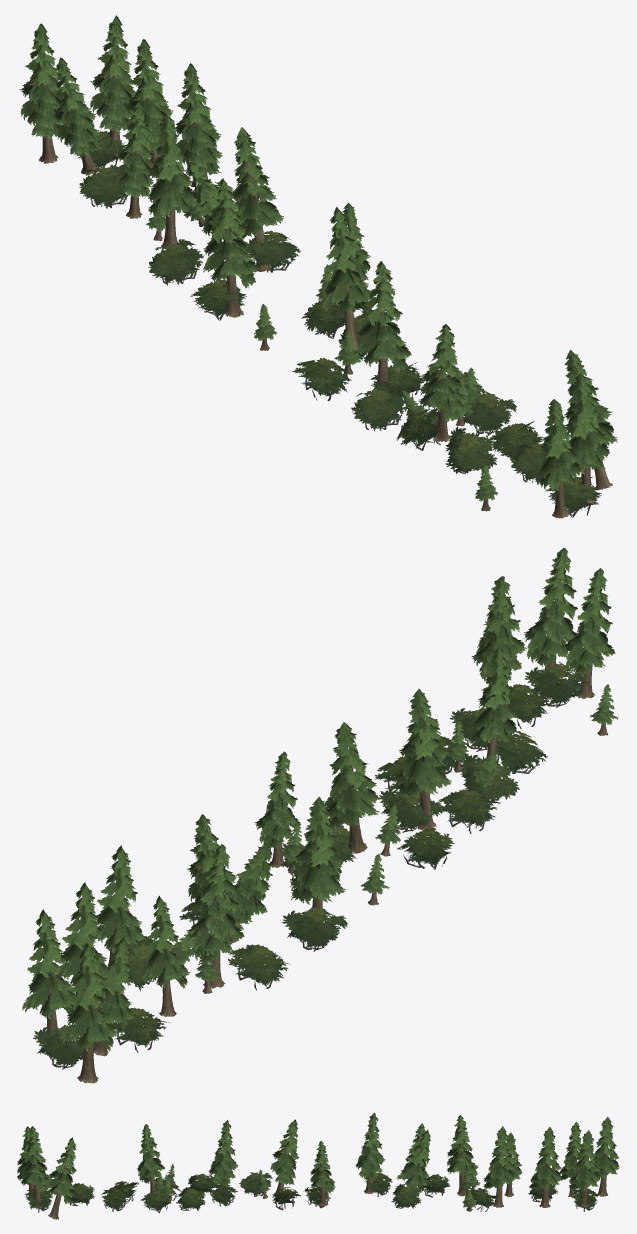
Rendered from forest1_LOD.fbx.
3 views of the same model, one above another, from view 1: azimuth 30°, elevation 25°; view 2: azimuth 150°, elevation 25°; view 3: azimuth 270°, elevation 25° (orthographic). The views are drawn at different scales.
Visible parts, largest first — view 1: Forest1_LOD0; view 2: Forest1_LOD0; view 3: Forest1_LOD0.
Part boxes in pixels (x1=…): Forest1_LOD0: x1=19, y1=15, x2=617, y2=518; Forest1_LOD0: x1=22, y1=547, x2=618, y2=1083; Forest1_LOD0: x1=17, y1=1112, x2=619, y2=1219.
Size of what is drawn, in the model's own units: 1761 by 1760 by 10494.
